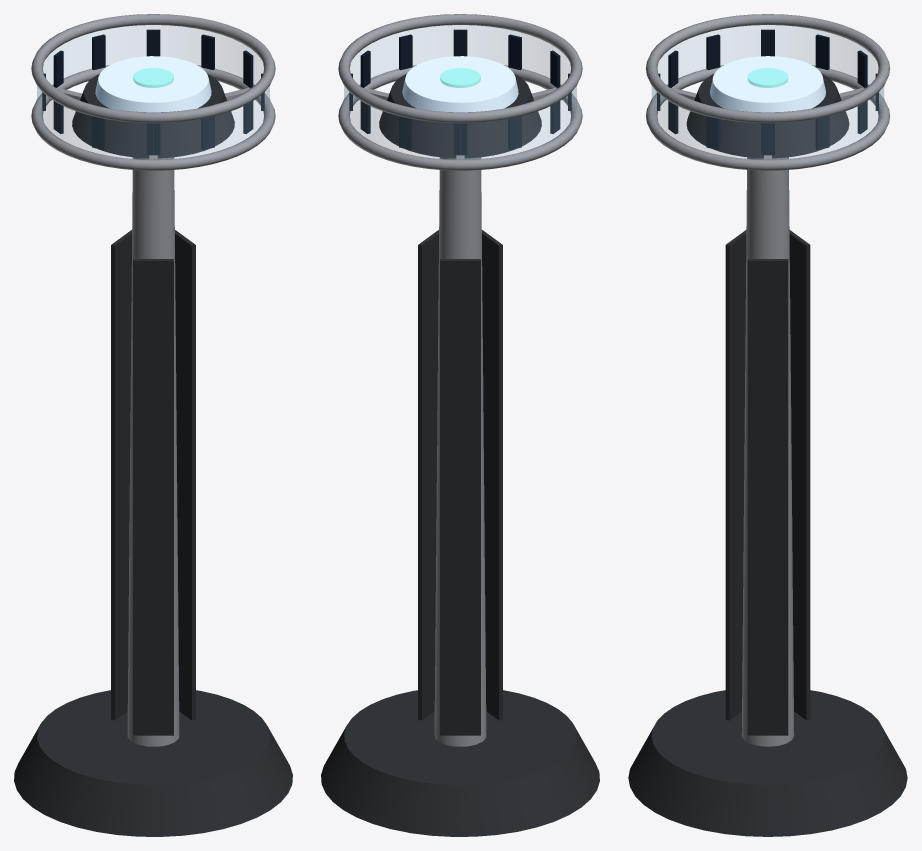
File: push_clock.glb
The picture shows the model from 3 angles, left to right: view 1: azimuth 30°, elevation 25°; view 2: azimuth 150°, elevation 25°; view 3: azimuth 270°, elevation 25°; orthographic projection.
Parts seen in each view (by area): view 1: group, cap; view 2: group, cap; view 3: group, cap.
Part boxes in pixels (x1,y1,x2,y2): group: (14, 14, 292, 836); cap: (95, 56, 211, 112); group: (321, 14, 599, 836); cap: (402, 56, 518, 112); group: (628, 14, 907, 836); cap: (710, 56, 825, 112).
Size of the model in its own units: 0.48 by 1.35 by 0.48.
